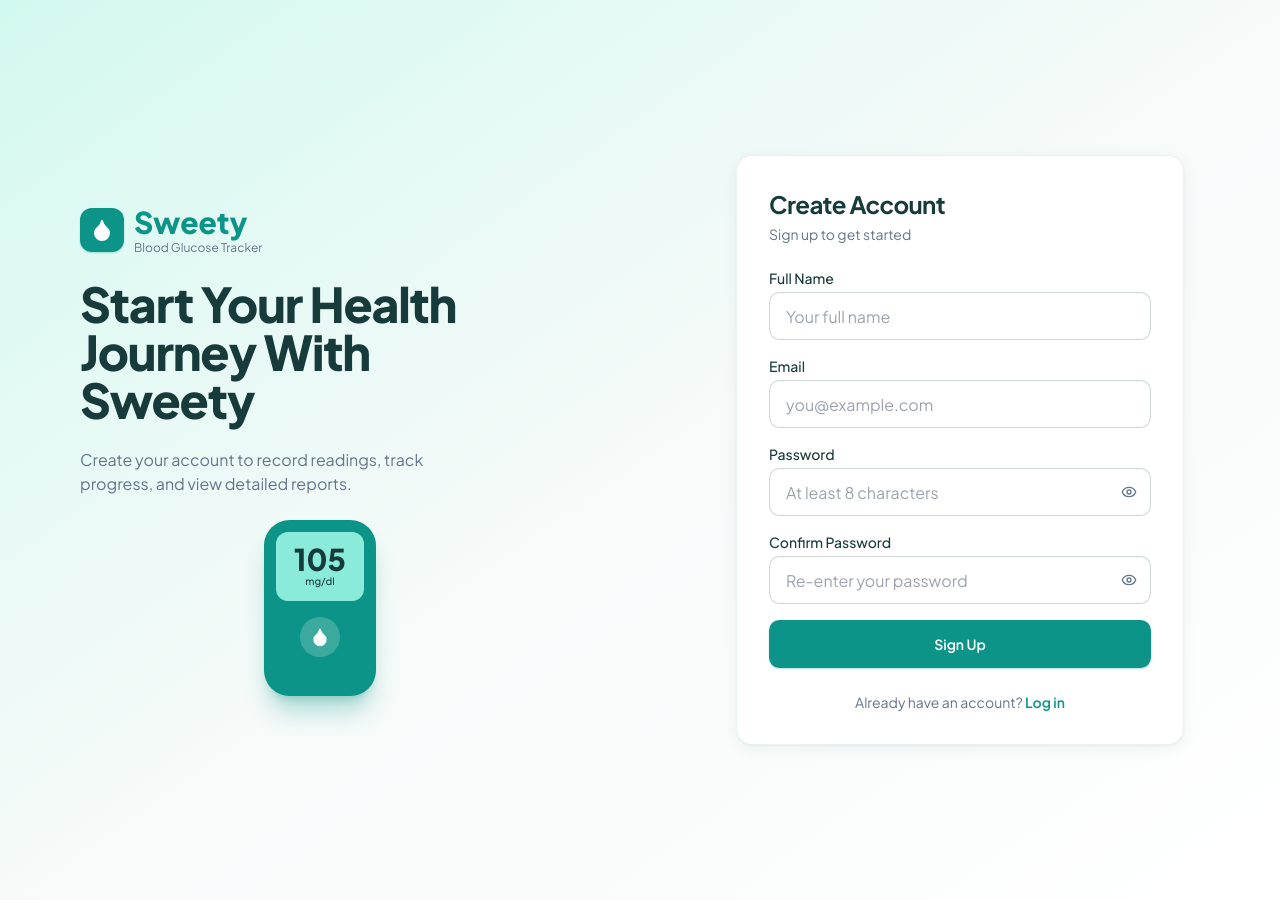
Register page › enforces minimum password length and matching passwords
Type "Asha Rao" into the field labelled "Full Name". click: (960, 316)
box: [769, 292, 1151, 340]
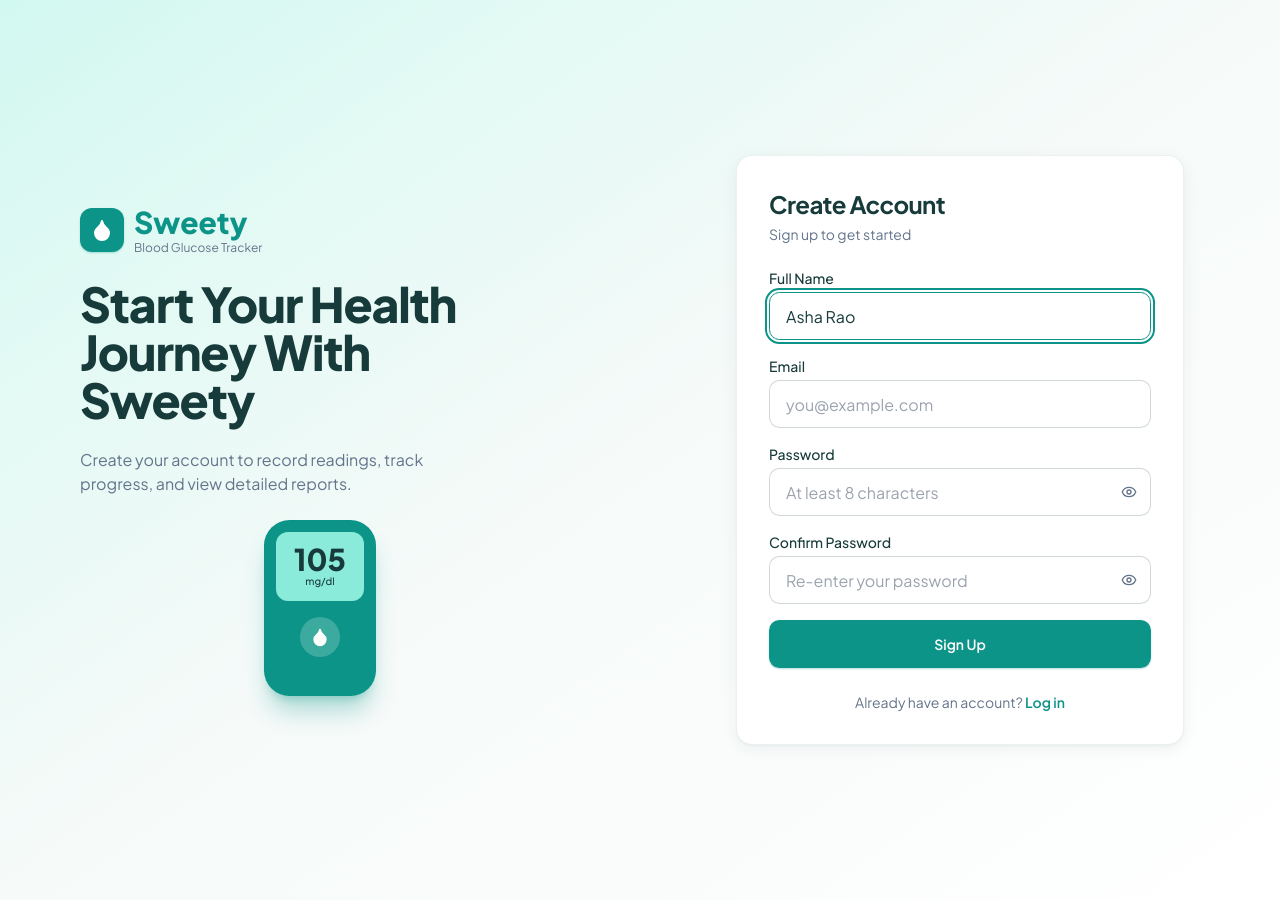
Type "asha@example.com" into the field labelled "Email". click: (960, 404)
box: [769, 380, 1151, 428]
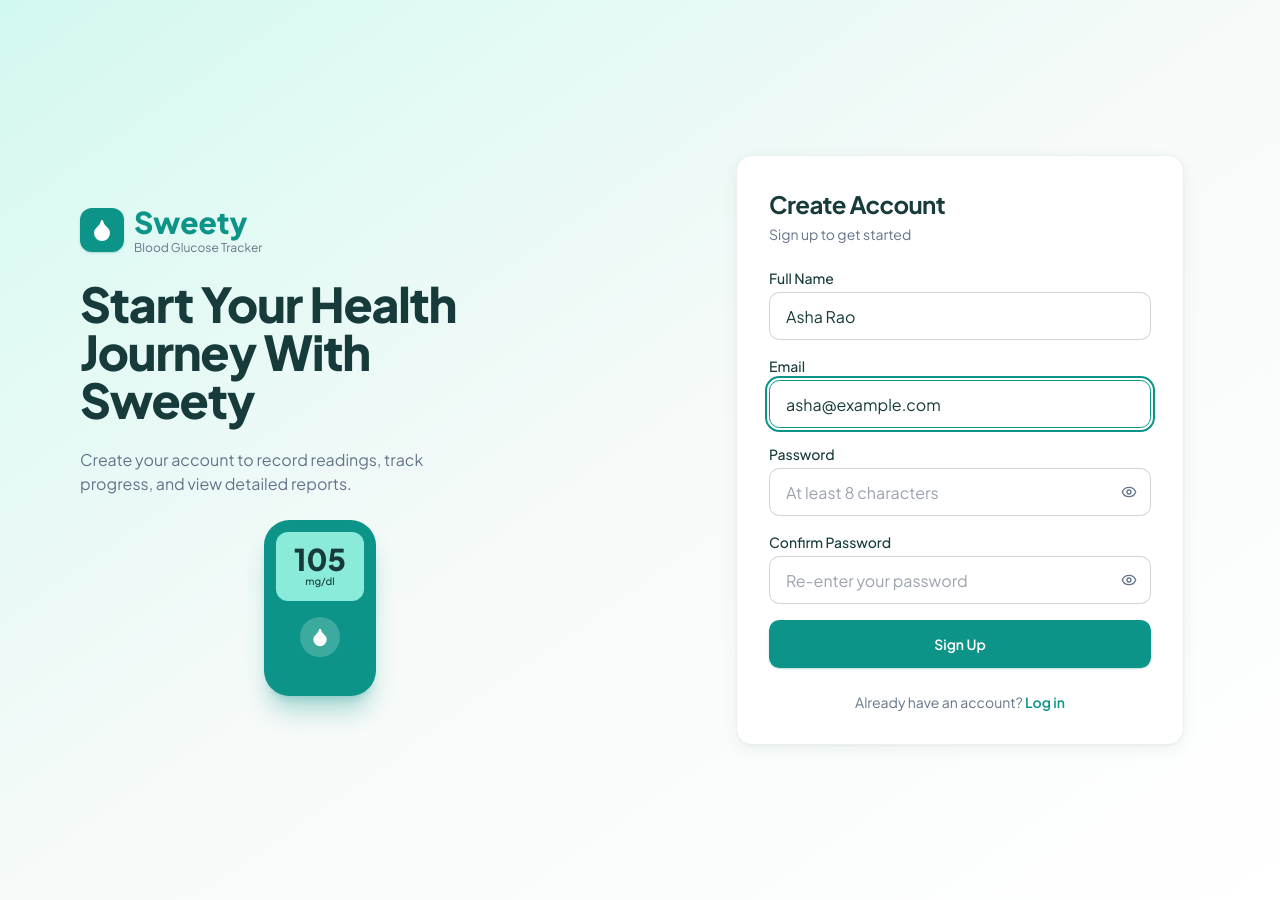
Type "short" into the password field labelled "Password". click: (960, 492)
box: [769, 468, 1151, 516]
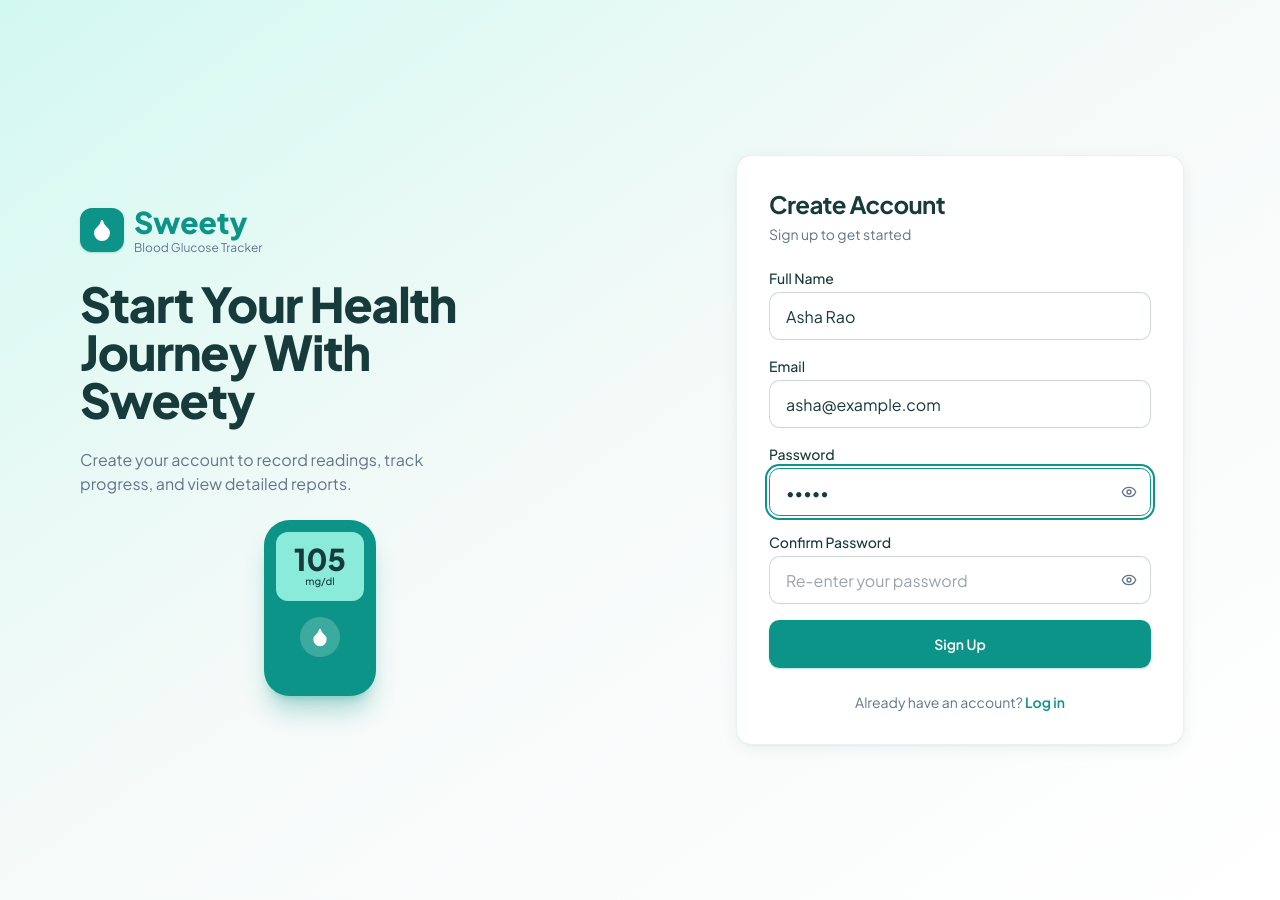
Type "different" into the password field labelled "Confirm Password". click: (960, 580)
box: [769, 556, 1151, 604]
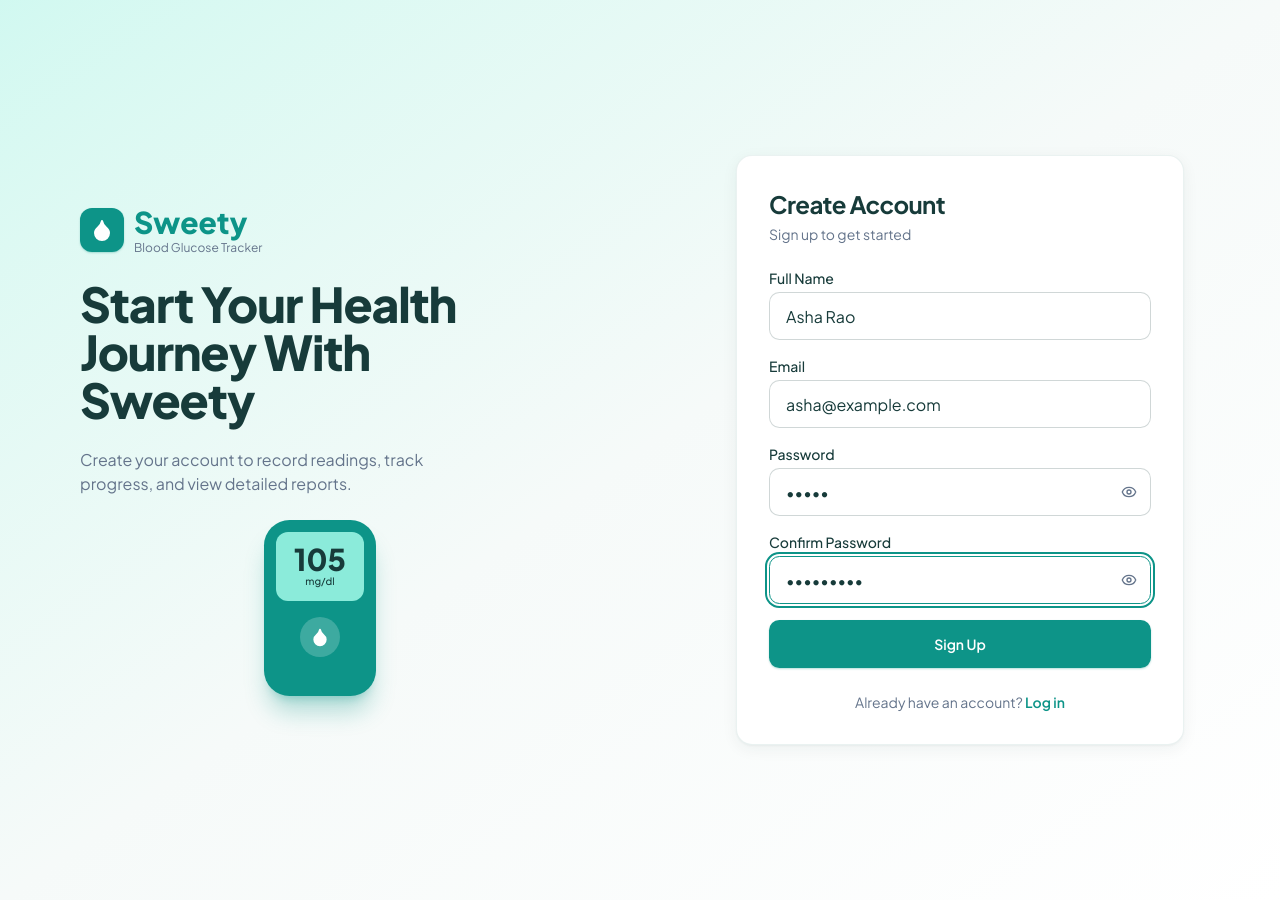
Click the button "Sign Up". click: click(960, 644)
box: [769, 620, 1151, 668]
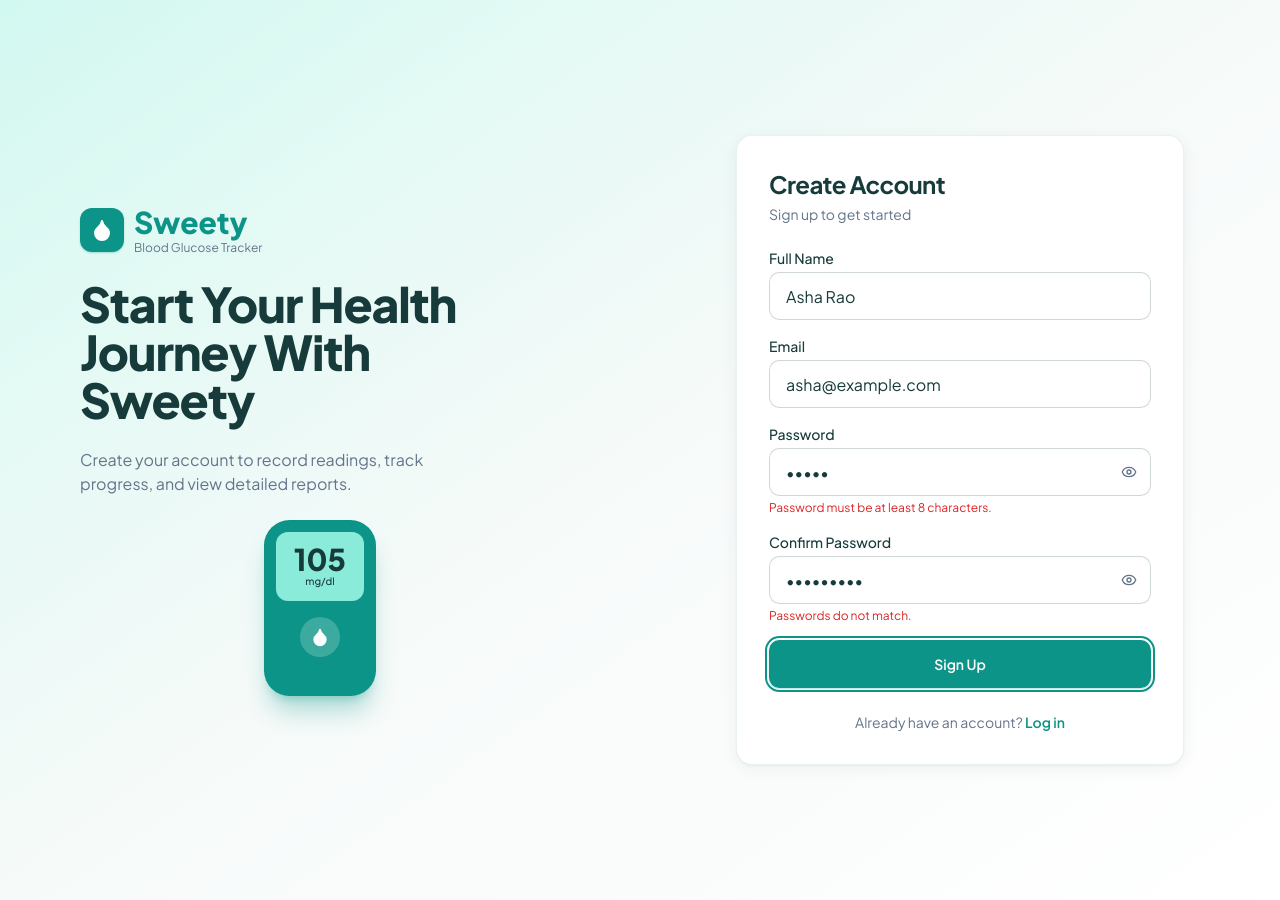
Now the text "Password must be at least 8 characters." is shown, box [769, 500, 992, 515]
Now the text "Passwords do not match." is shown, box [769, 608, 912, 623]
